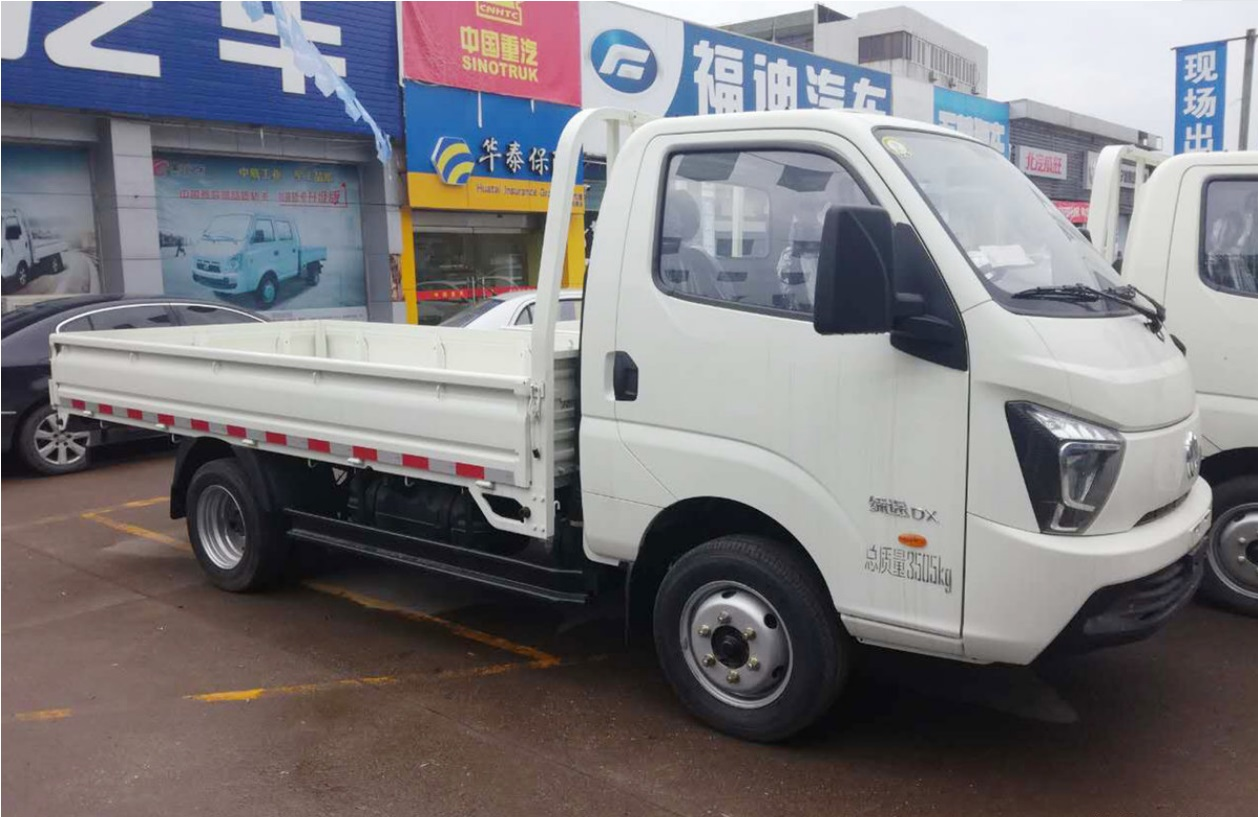truck: (46, 102, 1217, 747)
